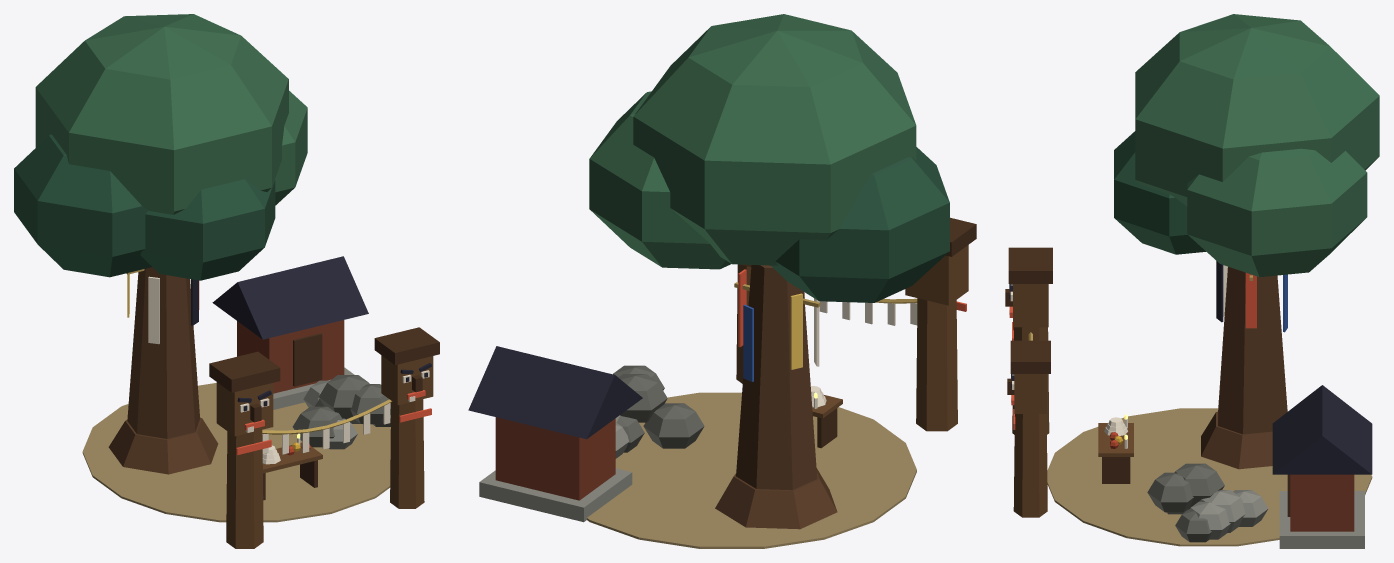
The model's file is prop_seonangdang_solgogae.glb.
3 renders of one model, left to right at view 1: azimuth 30°, elevation 25°; view 2: azimuth 150°, elevation 25°; view 3: azimuth 270°, elevation 25°, orthographic. The views are drawn at different scales.
Visible parts, largest first — view 1: prop_seonangdang_solgogae; view 2: prop_seonangdang_solgogae; view 3: prop_seonangdang_solgogae.
Boxes of the visible parts, x1=… form: prop_seonangdang_solgogae: x1=14, y1=14, x2=439, y2=548; prop_seonangdang_solgogae: x1=468, y1=14, x2=976, y2=548; prop_seonangdang_solgogae: x1=1005, y1=14, x2=1379, y2=548.
Size of the model in its own units: 5.7 by 6.52 by 5.27.
